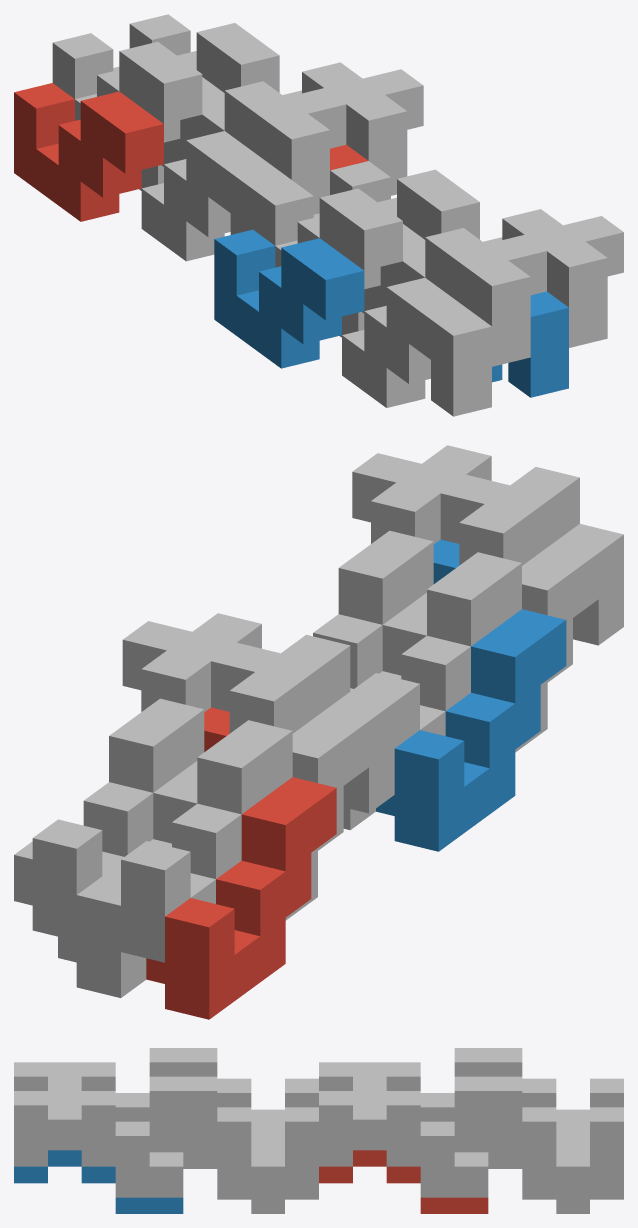
The model's file is tiling.obj.
The picture shows the model from 3 angles, top to bottom: view 1: azimuth 30°, elevation 25°; view 2: azimuth 150°, elevation 25°; view 3: azimuth 270°, elevation 25°; orthographic projection. The views are drawn at different scales.
Parts seen in each view (by area): view 1: copy_1_domain_2, copy_1_domain_1, copy_2_domain_2, copy_2_domain_1, copy_2_domain_4, copy_2_domain_3, copy_1_domain_3, copy_1_domain_4, copy_2_domain_8, copy_2_domain_7, copy_1_domain_7, copy_1_domain_8 (+4 smaller); view 2: copy_1_domain_1, copy_1_domain_2, copy_1_domain_7, copy_1_domain_3, copy_1_domain_4, copy_2_domain_3, copy_2_domain_4, copy_2_domain_1, copy_2_domain_2, copy_1_domain_8, copy_1_domain_5, copy_2_domain_8 (+4 smaller); view 3: copy_1_domain_7, copy_1_domain_8, copy_2_domain_7, copy_2_domain_8, copy_1_domain_3, copy_1_domain_4, copy_2_domain_3, copy_2_domain_4, copy_2_domain_5, copy_2_domain_6, copy_1_domain_5, copy_1_domain_6.
Boxes of the visible parts, bbox=[...] form: copy_1_domain_2: bbox=[214, 229, 364, 368]; copy_1_domain_1: bbox=[14, 83, 163, 221]; copy_2_domain_2: bbox=[342, 277, 491, 416]; copy_2_domain_1: bbox=[141, 131, 291, 261]; copy_2_domain_4: bbox=[380, 228, 546, 366]; copy_2_domain_3: bbox=[180, 81, 346, 214]; copy_1_domain_3: bbox=[52, 33, 202, 142]; copy_1_domain_4: bbox=[253, 180, 402, 289]; copy_2_domain_8: bbox=[483, 209, 623, 347]; copy_2_domain_7: bbox=[282, 62, 423, 195]; copy_1_domain_7: bbox=[129, 14, 279, 92]; copy_1_domain_8: bbox=[330, 161, 479, 239]; copy_1_domain_1: bbox=[146, 777, 336, 1019]; copy_1_domain_2: bbox=[376, 609, 566, 851]; copy_1_domain_7: bbox=[14, 698, 204, 940]; copy_1_domain_3: bbox=[102, 720, 292, 962]; copy_1_domain_4: bbox=[351, 552, 521, 747]; copy_2_domain_3: bbox=[211, 634, 350, 733]; copy_2_domain_4: bbox=[440, 467, 579, 565]; copy_2_domain_1: bbox=[285, 691, 394, 920]; copy_2_domain_2: bbox=[515, 524, 623, 752]; copy_1_domain_8: bbox=[313, 530, 433, 691]; copy_1_domain_5: bbox=[58, 761, 197, 997]; copy_2_domain_8: bbox=[352, 445, 491, 543]; copy_1_domain_7: bbox=[454, 1076, 623, 1197]; copy_1_domain_8: bbox=[149, 1076, 318, 1197]; copy_2_domain_7: bbox=[319, 1091, 488, 1197]; copy_2_domain_8: bbox=[14, 1091, 183, 1197]; copy_1_domain_3: bbox=[454, 1048, 623, 1137]; copy_1_domain_4: bbox=[149, 1048, 318, 1137]; copy_2_domain_3: bbox=[319, 1062, 488, 1152]; copy_2_domain_4: bbox=[14, 1062, 183, 1152]; copy_2_domain_5: bbox=[319, 1150, 488, 1213]; copy_2_domain_6: bbox=[14, 1150, 183, 1213]; copy_1_domain_5: bbox=[454, 1121, 623, 1213]; copy_1_domain_6: bbox=[149, 1121, 318, 1213].
Bounding box in the file's own units: 6 × 4 × 18.
